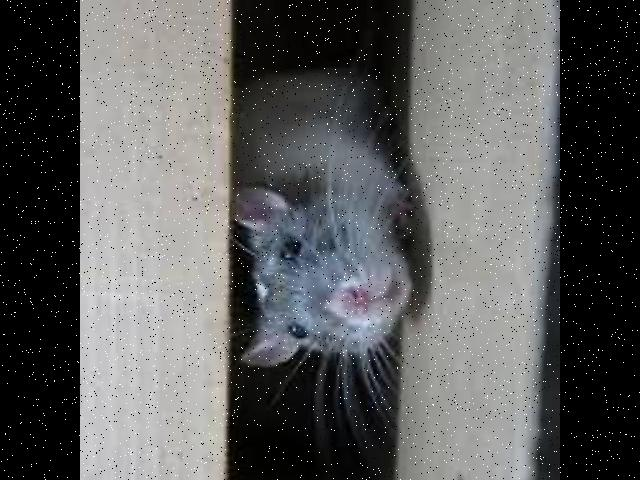Tikus: (234, 60, 415, 370)
